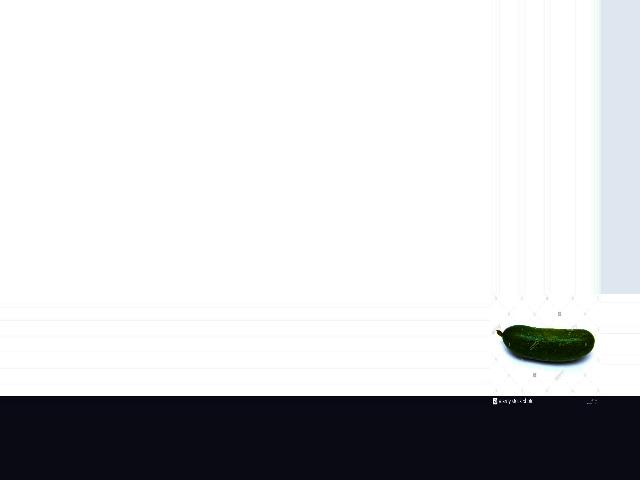cucumber: (496, 325, 595, 362)
